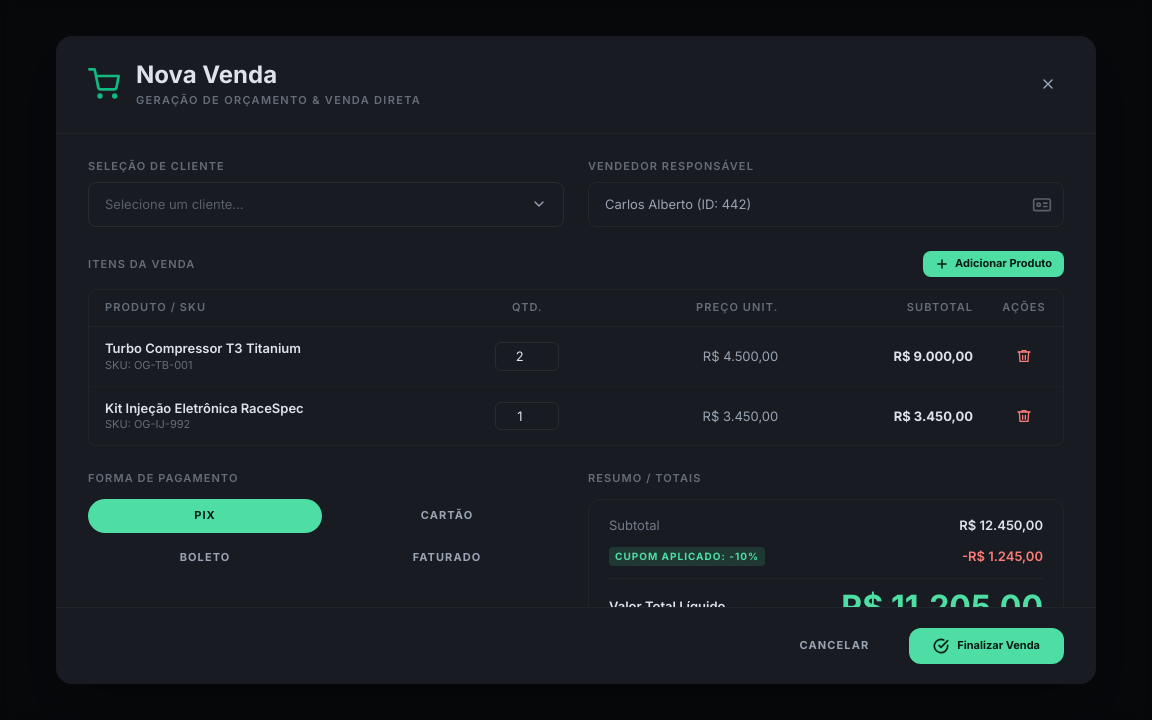
Scenario: SaleFormModal 4.4 — Adicionar Produto › busca por SKU filtra os produtos exibidos
Click the button "Adicionar Produto". click: (994, 264)
box: [923,251,1064,277]
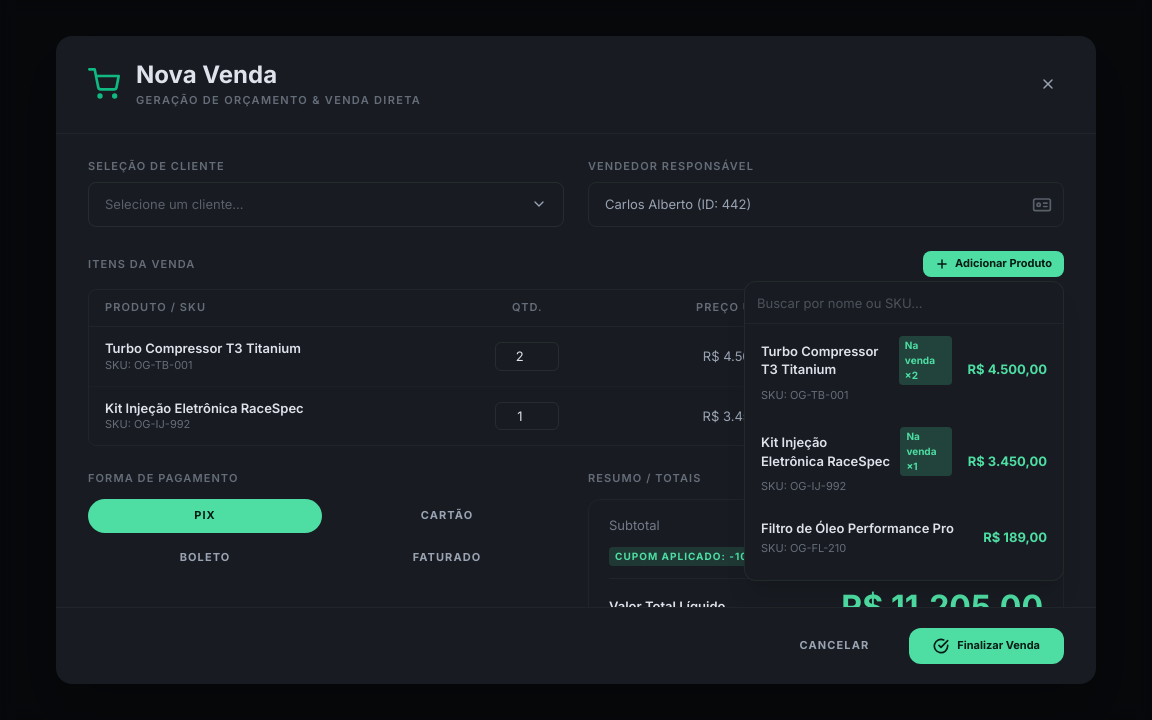
Type "OG-EC" into the field named "buscar produto". click: (904, 303)
box: [757,294,1051,313]
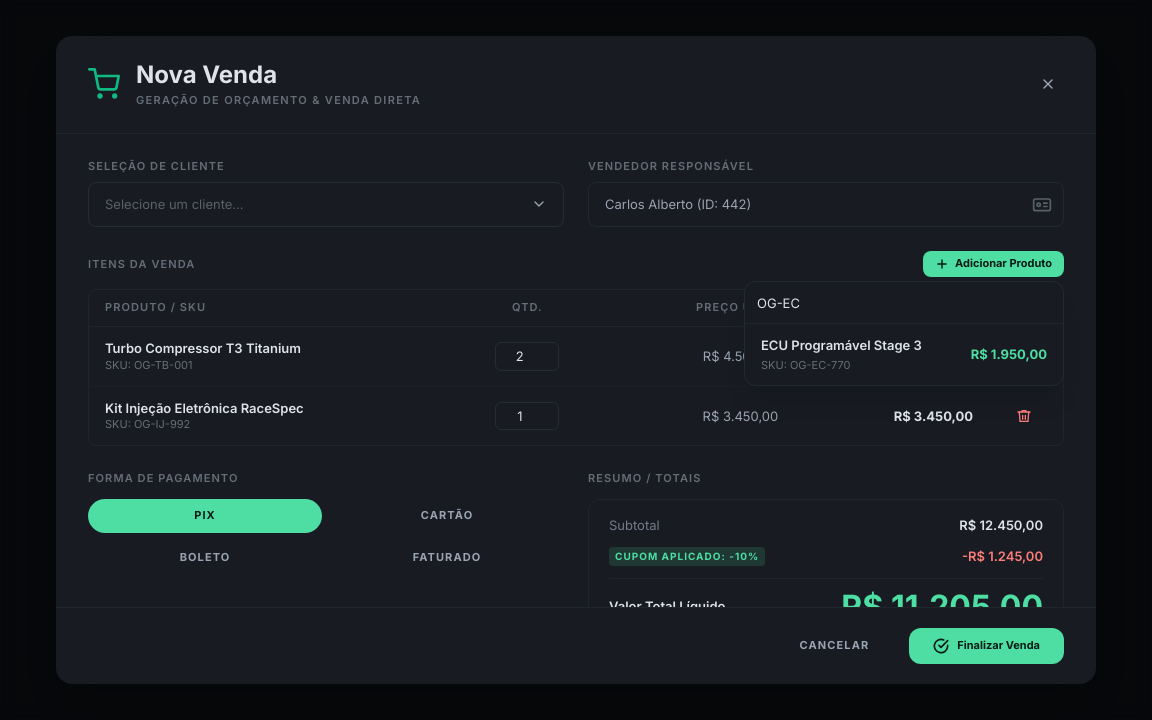
Expected: the option "ECU Programável Stage 3 SKU: OG-EC-770 R$ 1.950,00" is shown, [745,324,1063,385]
